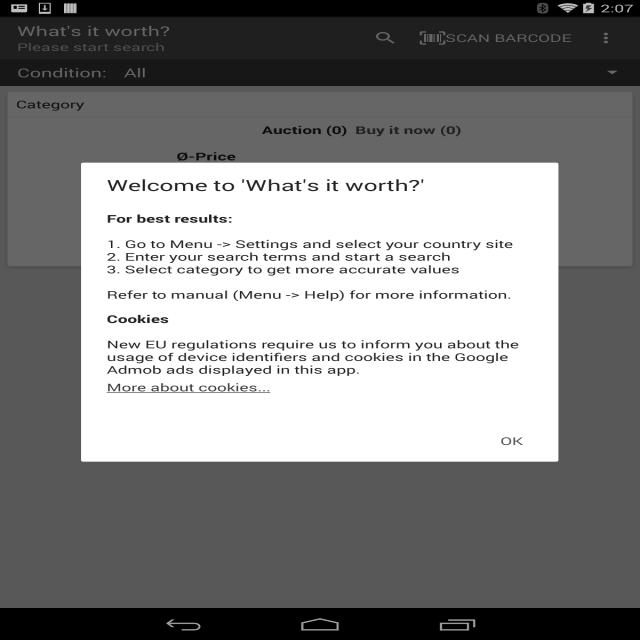ImageButton: (359, 26, 405, 50), (416, 26, 451, 49), (594, 27, 614, 50)
TextView: (98, 338, 528, 376), (100, 236, 464, 278), (100, 173, 432, 195), (13, 23, 188, 58), (258, 124, 466, 140), (101, 210, 234, 230), (14, 66, 160, 84), (99, 380, 271, 394), (12, 96, 111, 116), (104, 309, 178, 325)
